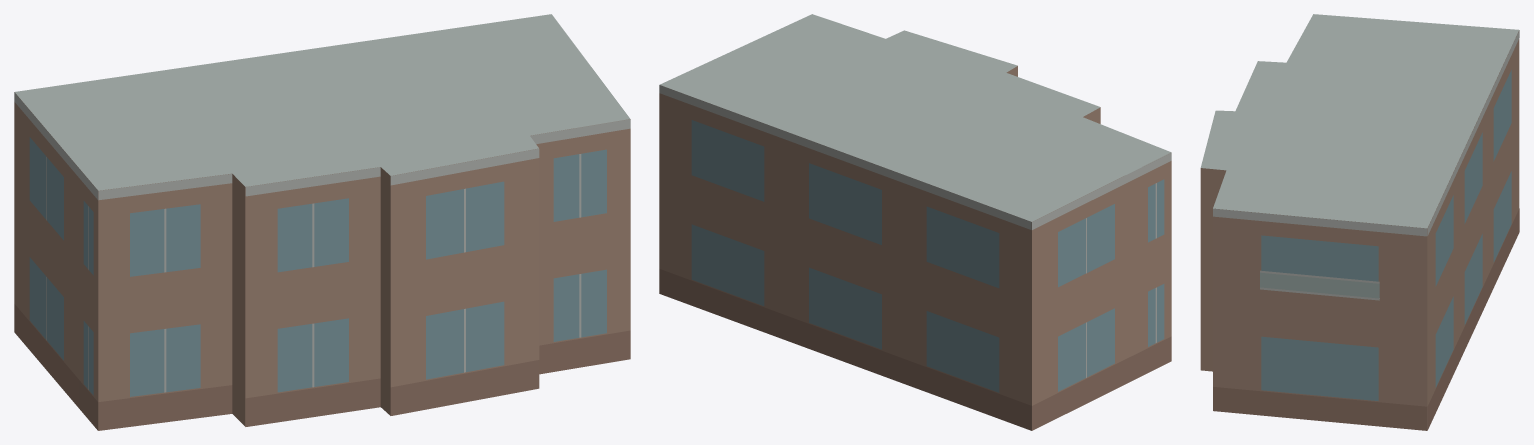
File: survey-upis-32485001.glb
3 views of the same model, side by side, from view 1: azimuth 30°, elevation 25°; view 2: azimuth 150°, elevation 25°; view 3: azimuth 270°, elevation 25° (orthographic). The views are drawn at different scales.
Visible parts, largest first — view 1: survey-upis-32485001.tmp; view 2: survey-upis-32485001.tmp; view 3: survey-upis-32485001.tmp.
Part boxes in pixels (box(x1,y1,x2,y2)): survey-upis-32485001.tmp: box(14, 14, 630, 430); survey-upis-32485001.tmp: box(659, 14, 1171, 430); survey-upis-32485001.tmp: box(1200, 14, 1519, 430).
Size of the model in its own units: 13.86 by 6.1 by 8.72.
